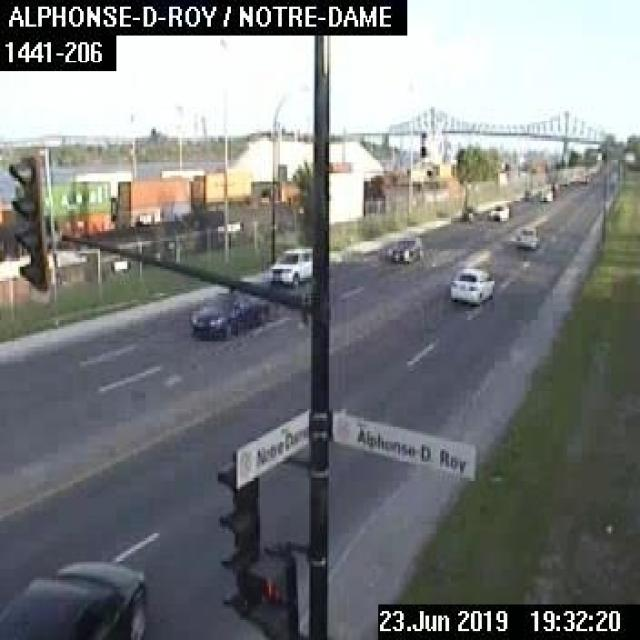vehicle: (0, 555, 145, 637), (186, 286, 266, 336), (267, 244, 312, 286), (447, 264, 493, 304), (385, 231, 420, 262), (486, 200, 509, 218), (518, 224, 536, 247)
